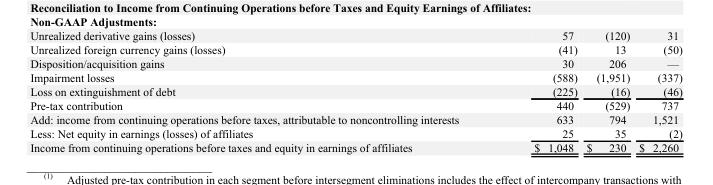table: (29, 28, 681, 153)
table column: (29, 28, 495, 153), (495, 28, 581, 153), (581, 28, 633, 153), (633, 28, 681, 153)
table column header: (29, 28, 681, 42)
table row: (29, 28, 681, 42), (29, 42, 681, 56), (29, 56, 681, 70), (29, 70, 681, 84), (29, 84, 681, 98), (29, 98, 681, 112), (29, 112, 681, 126), (29, 126, 681, 140), (29, 140, 681, 153)
